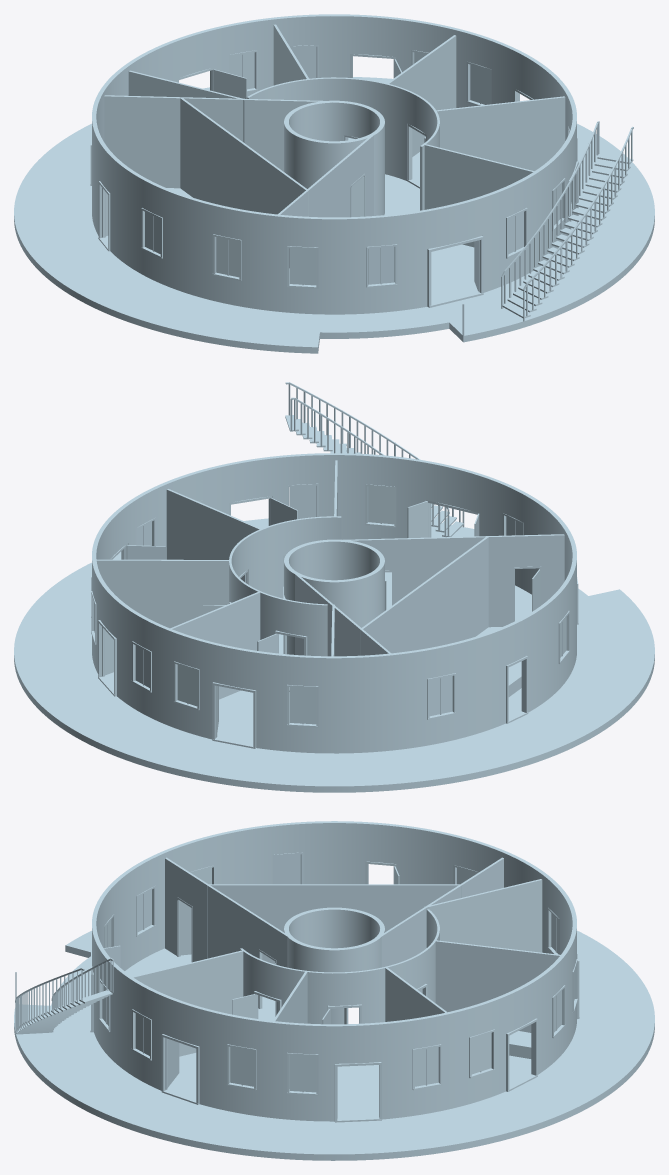
File: tower_floor.glb
3 renders of one model, top to bottom at view 1: azimuth 30°, elevation 25°; view 2: azimuth 150°, elevation 25°; view 3: azimuth 270°, elevation 25°, orthographic.
Visible parts, largest first — view 1: Facade 0, Slab 0, Radial demise wall (×5), Core tangent wall, Bedroom-bath wall, Elevator shell 0, Corridor wall 0, Window glass (×8), Living-bedroom separator (×3), Door leaf, Separator door leaf (bath); view 2: Facade 0, Slab 0, Radial demise wall (×3), Bedroom-bath wall, Living-bedroom separator (×3), Corridor wall 0, Elevator shell 0, Window glass (×5), Core tangent wall, Main door leaf, Door leaf; view 3: Facade 0, Slab 0, Radial demise wall (×5), Corridor wall 0, Bedroom-bath wall, Living-bedroom separator (×4), Elevator shell 0, Window glass (×7), Core tangent wall, Door leaf (×2), Separator door leaf (bed), Bed (single).
Part boxes in pixels (<box>): Facade 0: <box>92,14,576,314</box>; Slab 0: <box>14,77,654,353</box>; Radial demise wall (×5): <box>128,24,565,247</box>; Core tangent wall: <box>104,95,338,188</box>; Bedroom-bath wall: <box>180,98,308,267</box>; Elevator shell 0: <box>284,100,384,215</box>; Corridor wall 0: <box>246,77,439,210</box>; Window glass (×8): <box>145,46,523,285</box>; Living-bedroom separator (×3): <box>295,135,373,217</box>; Door leaf: <box>211,69,246,98</box>; Separator door leaf (bath): <box>352,177,365,216</box>; Facade 0: <box>92,453,576,753</box>; Slab 0: <box>14,518,654,792</box>; Radial demise wall (×3): <box>96,489,262,699</box>; Bedroom-bath wall: <box>360,537,488,655</box>; Living-bedroom separator (×3): <box>394,534,564,627</box>; Corridor wall 0: <box>229,516,341,656</box>; Elevator shell 0: <box>284,539,384,654</box>; Window glass (×5): <box>177,485,452,724</box>; Core tangent wall: <box>290,569,390,656</box>; Main door leaf: <box>407,501,430,537</box>; Door leaf: <box>124,545,165,559</box>; Facade 0: <box>92,821,577,1121</box>; Slab 0: <box>14,930,654,1160</box>; Radial demise wall (×5): <box>132,879,560,1088</box>; Corridor wall 0: <box>240,909,439,1024</box>; Bedroom-bath wall: <box>207,884,461,964</box>; Living-bedroom separator (×4): <box>165,857,278,1007</box>; Elevator shell 0: <box>284,907,384,1024</box>; Window glass (×7): <box>135,854,491,1092</box>; Core tangent wall: <box>373,857,503,993</box>; Door leaf (×2): <box>165,994,257,1089</box>; Separator door leaf (bed): <box>177,900,191,955</box>; Bed (single): <box>509,1031,531,1058</box>.
Size of the model in its own units: 20 by 4.84 by 20.
